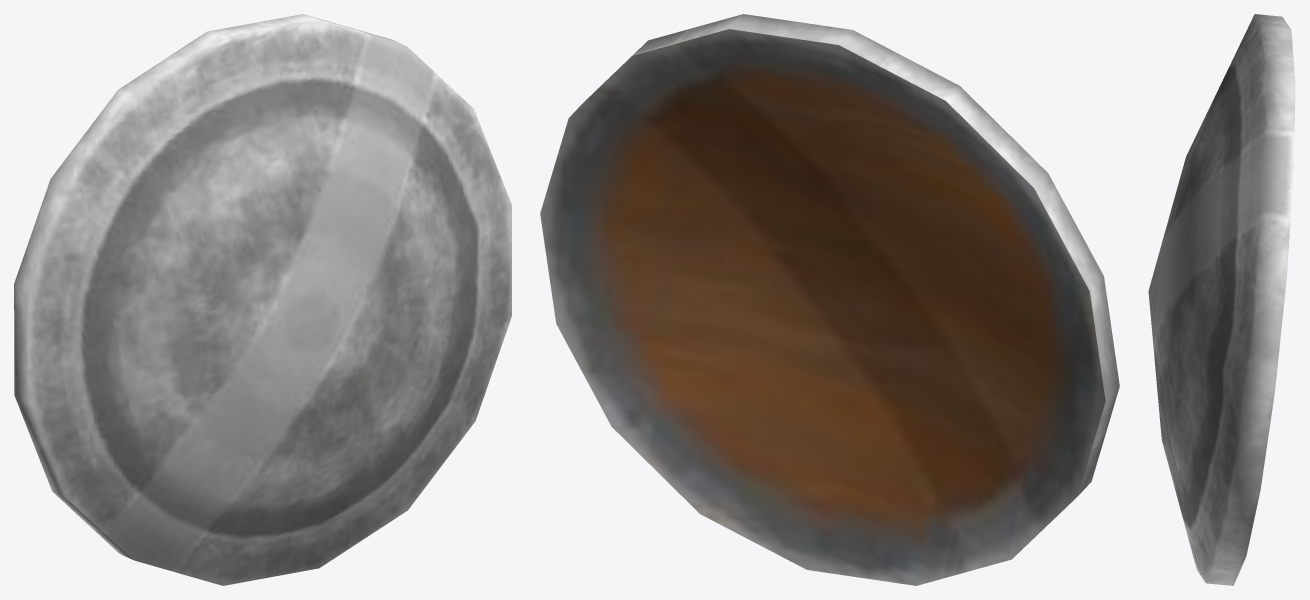
Rendered from shield-coppershields.glb.
3 views of the same model, side by side, from view 1: azimuth 30°, elevation 25°; view 2: azimuth 150°, elevation 25°; view 3: azimuth 270°, elevation 25° (orthographic). The views are drawn at different scales.
Size of the model in its own units: 0.5476 by 0.5469 by 0.1415.
Materials: 1 (1 with a texture image).
